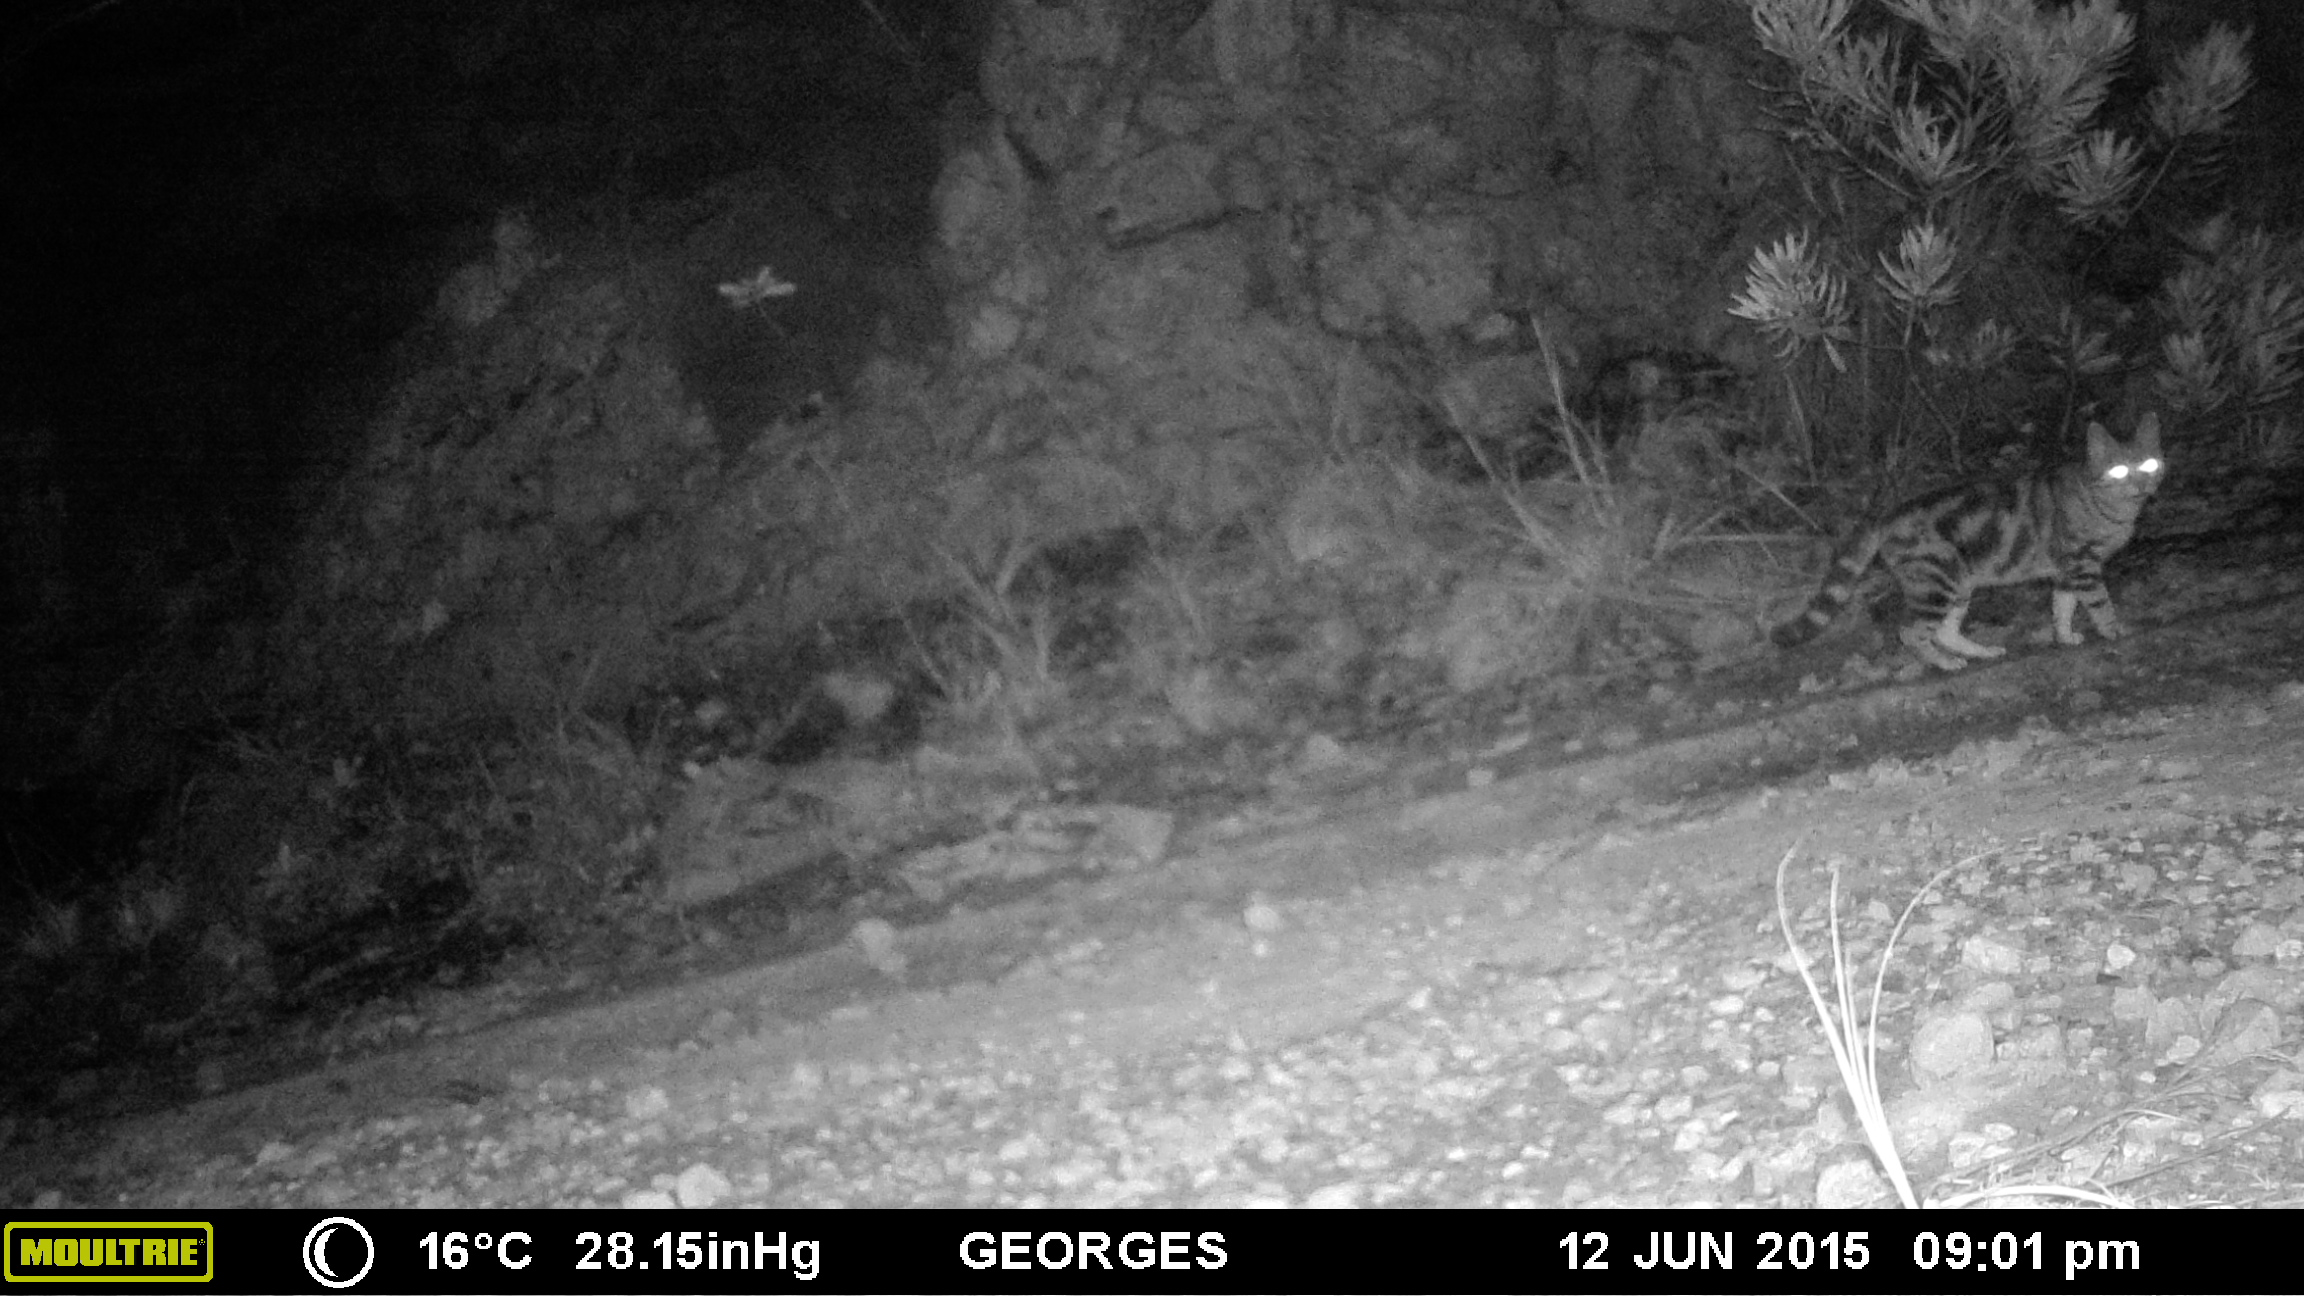cat: (1768, 404, 2169, 692)
